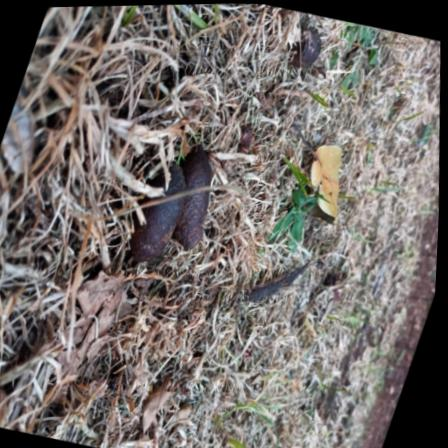dog-poop: (138, 149, 220, 261), (292, 20, 323, 67)
